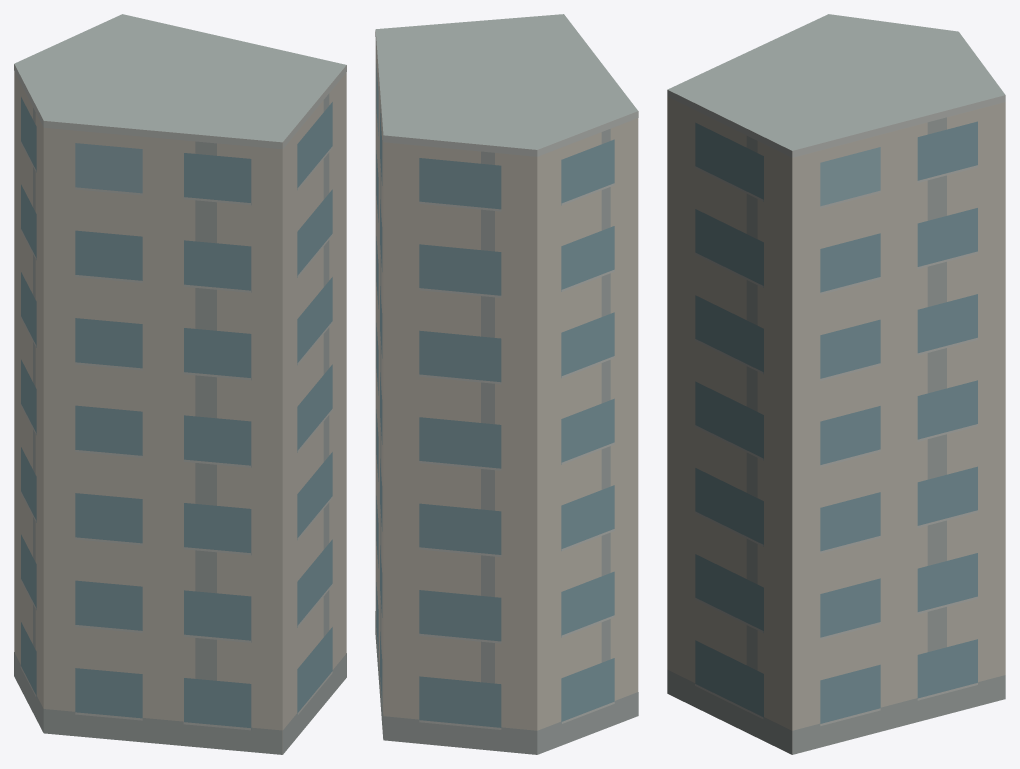
Rendered from survey-upis-32502013.glb.
3 renders of one model, left to right at view 1: azimuth 30°, elevation 25°; view 2: azimuth 150°, elevation 25°; view 3: azimuth 270°, elevation 25°, orthographic.
Parts seen in each view (by area): view 1: survey-upis-32502013.tmp; view 2: survey-upis-32502013.tmp; view 3: survey-upis-32502013.tmp.
Part boxes in pixels (left/top/right/bottom): survey-upis-32502013.tmp: left=14, top=14, right=346, bottom=754; survey-upis-32502013.tmp: left=375, top=14, right=638, bottom=754; survey-upis-32502013.tmp: left=667, top=14, right=1005, bottom=754.
Size of the model in its own units: 10.39 by 21.35 by 10.85.
